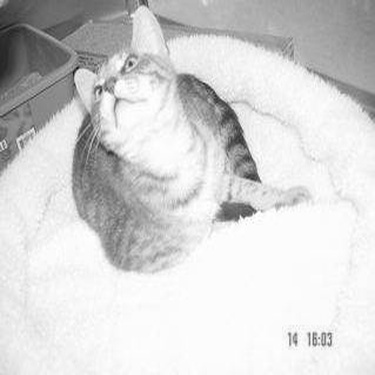cat: (48, 3, 322, 283)
